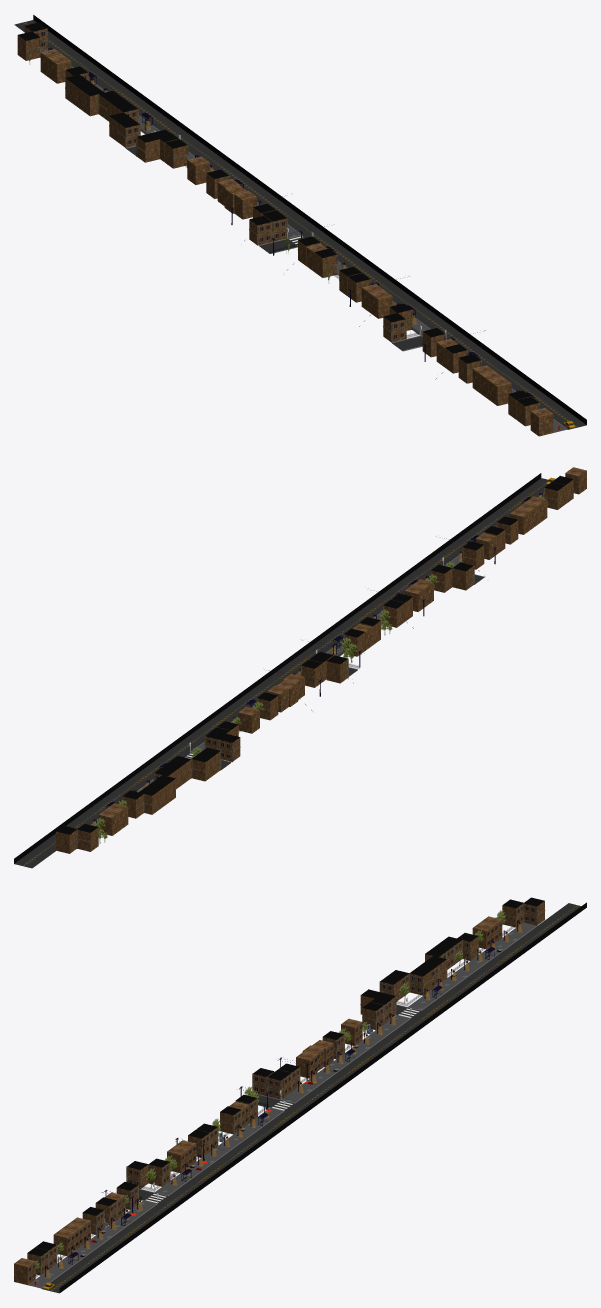
The model's file is RIFT-finalEnvironment.gltf.
3 renders of one model, top to bottom at view 1: azimuth 30°, elevation 25°; view 2: azimuth 150°, elevation 25°; view 3: azimuth 330°, elevation 25°, orthographic. The views are drawn at different scales.
Visible parts, largest first — view 1: CarLane, barrier, House2.019, House2.005, House2.013, House2.030, House2.009, House2.016, House, House2.020, House.001, House.011; view 2: CarLane, barrier, House2.005, House2.013, House2.030, House2.021, House2.019, House2.029, House2.001, House2.014; view 3: CarLane, barrier, WalkLane.002, WalkLane.003, WalkLane, WalkLane.001, House2.029, House2.022, House2.009, House2.016, House, House2.006 (+1 smaller).
Boxes of the visible parts, bbox=[...] form: CarLane: bbox=[14, 20, 586, 429]; barrier: bbox=[33, 15, 586, 424]; House2.019: bbox=[136, 133, 159, 162]; House2.005: bbox=[383, 313, 406, 342]; House2.013: bbox=[249, 216, 272, 245]; House2.030: bbox=[17, 31, 40, 60]; House2.009: bbox=[314, 248, 337, 277]; House2.016: bbox=[164, 139, 188, 168]; House: bbox=[530, 408, 553, 436]; House2.020: bbox=[117, 118, 140, 148]; House.001: bbox=[489, 377, 511, 405]; House.011: bbox=[187, 156, 209, 184]; CarLane: bbox=[14, 478, 548, 868]; barrier: bbox=[14, 473, 541, 863]; House2.005: bbox=[452, 562, 474, 590]; House2.013: bbox=[326, 655, 348, 683]; House2.030: bbox=[76, 823, 98, 851]; House2.021: bbox=[191, 753, 212, 781]; House2.019: bbox=[218, 734, 240, 762]; House2.029: bbox=[55, 825, 77, 853]; House2.001: bbox=[543, 482, 565, 509]; House2.014: bbox=[300, 659, 322, 687]; CarLane: bbox=[42, 903, 581, 1293]; barrier: bbox=[59, 902, 586, 1292]; WalkLane.002: bbox=[281, 1015, 409, 1102]; WalkLane.003: bbox=[408, 922, 535, 1010]; WalkLane: bbox=[28, 1200, 156, 1288]; WalkLane.001: bbox=[155, 1108, 282, 1195]; House2.029: bbox=[523, 897, 545, 925]; House2.022: bbox=[409, 967, 431, 995]; House2.009: bbox=[219, 1106, 241, 1134]; House2.016: bbox=[362, 1002, 384, 1030]; House: bbox=[14, 1258, 35, 1284]; House2.006: bbox=[148, 1158, 170, 1186].
Size of the model in its own units: 14.65 by 8.53 by 200.
